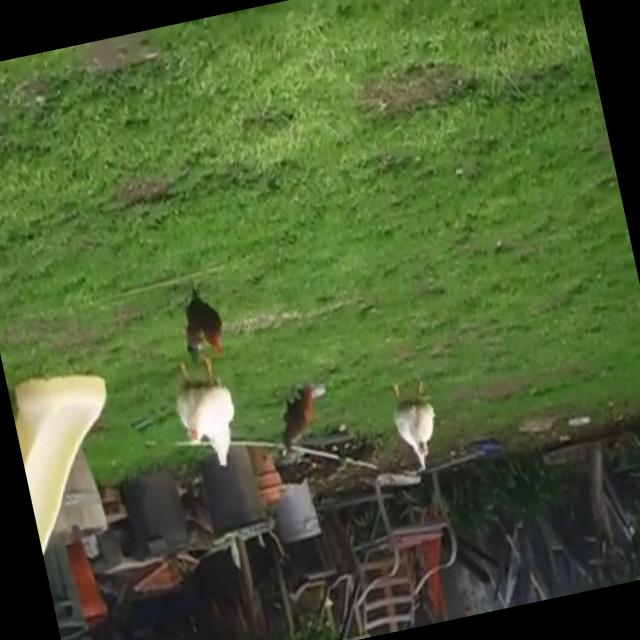running: (166, 353, 250, 476), (387, 370, 454, 484)
walking: (170, 274, 233, 362)
